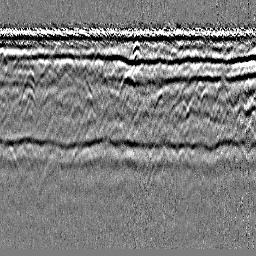cavity: (116, 72, 139, 99)
